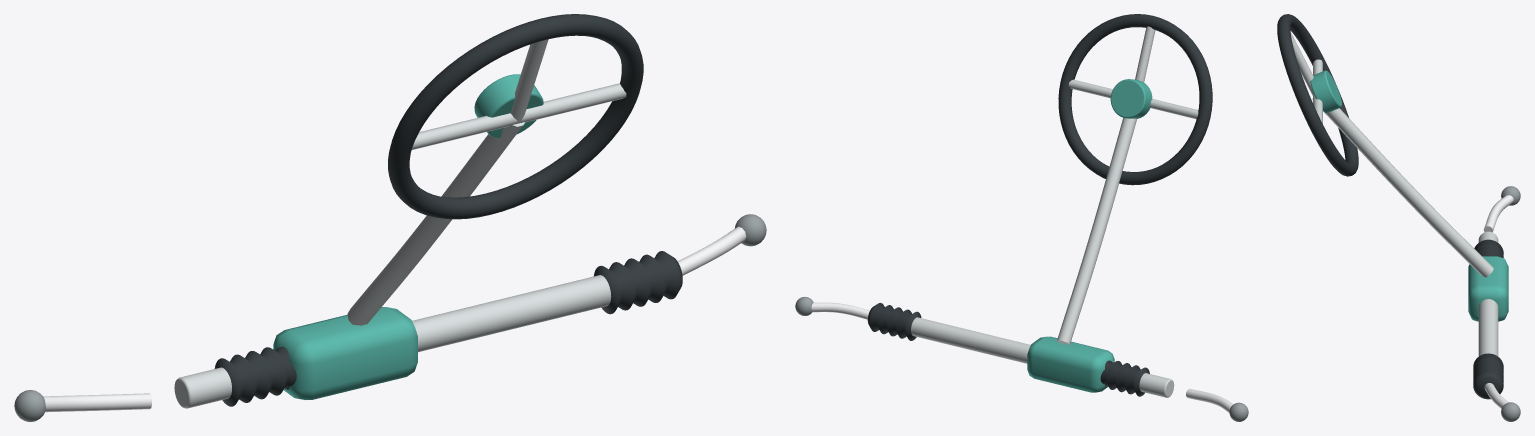
The model's file is steering_quick.fbx.
The picture shows the model from 3 angles, left to right: view 1: azimuth 30°, elevation 25°; view 2: azimuth 150°, elevation 25°; view 3: azimuth 270°, elevation 25°; orthographic projection. The views are drawn at different scales.
Visible parts, largest first — view 1: steering_quick; view 2: steering_quick; view 3: steering_quick.
Part boxes in pixels (<box>): steering_quick: <box>14,14,766,421</box>; steering_quick: <box>795,14,1248,421</box>; steering_quick: <box>1277,14,1520,421</box>.
Bounding box in the file's own units: 118 × 72.31 × 54.27.
